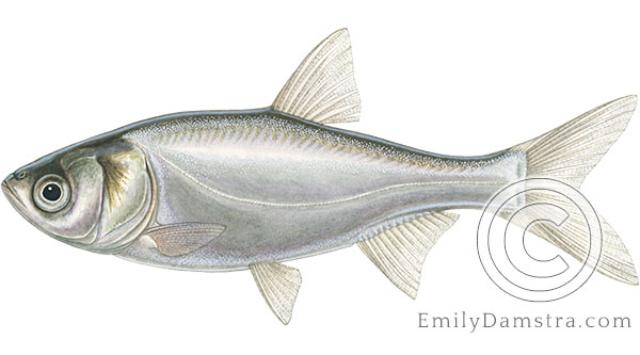Mulut: (0, 156, 40, 220)
Sirip Anal: (358, 200, 464, 304)
Sirip Dada: (144, 220, 233, 262)
Sirip Ekor: (508, 82, 640, 298)
Sirip Perut: (244, 256, 312, 332)
Sirip Punggung: (273, 16, 367, 134)
